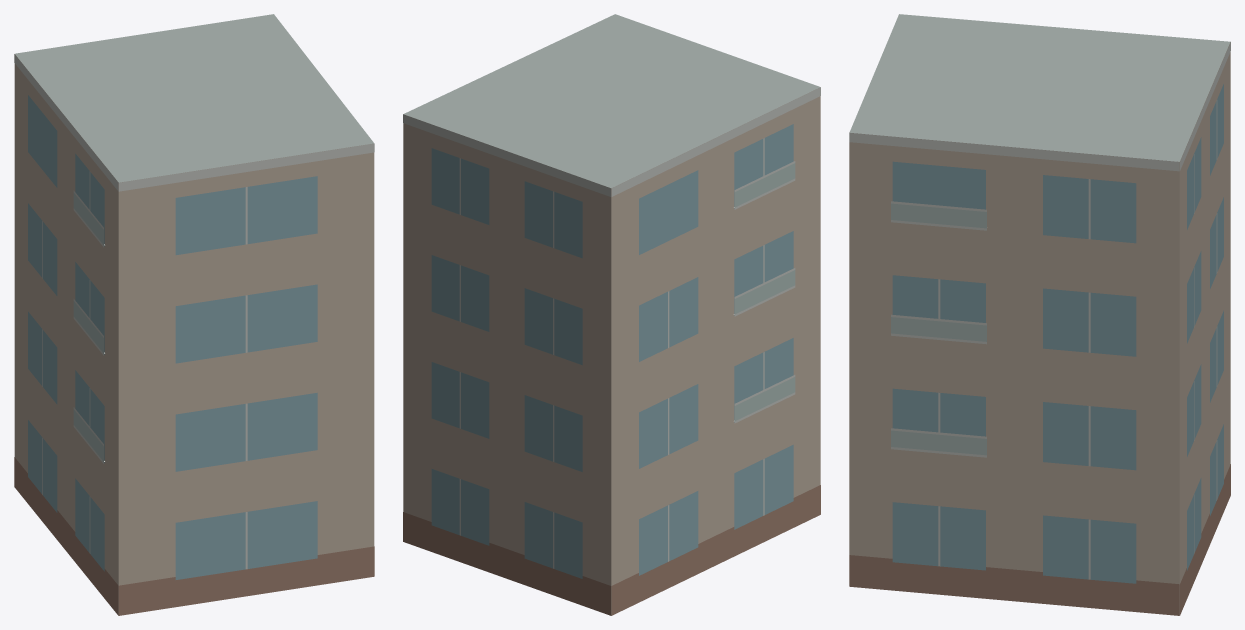
File: survey-upis-32984468.glb
3 views of the same model, side by side, from view 1: azimuth 30°, elevation 25°; view 2: azimuth 150°, elevation 25°; view 3: azimuth 270°, elevation 25° (orthographic). The views are drawn at different scales.
Visible parts, largest first — view 1: survey-upis-32984468.tmp; view 2: survey-upis-32984468.tmp; view 3: survey-upis-32984468.tmp.
Boxes of the visible parts, <box> form: survey-upis-32984468.tmp: <box>14,14,374,615</box>; survey-upis-32984468.tmp: <box>403,14,820,615</box>; survey-upis-32984468.tmp: <box>849,14,1230,615</box>.
Size of the model in its own units: 8.18 by 11.7 by 8.92.
